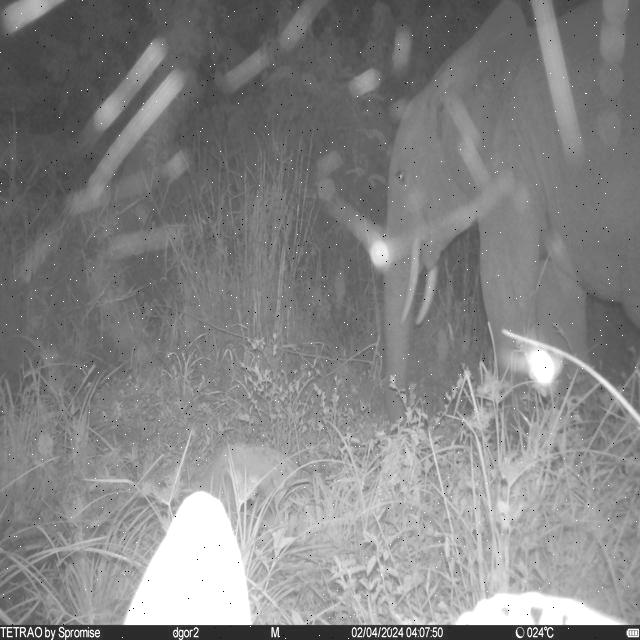ear: (440, 1, 528, 205)
elephant: (388, 1, 640, 396)
tusk: (398, 240, 421, 334), (415, 266, 439, 328)
